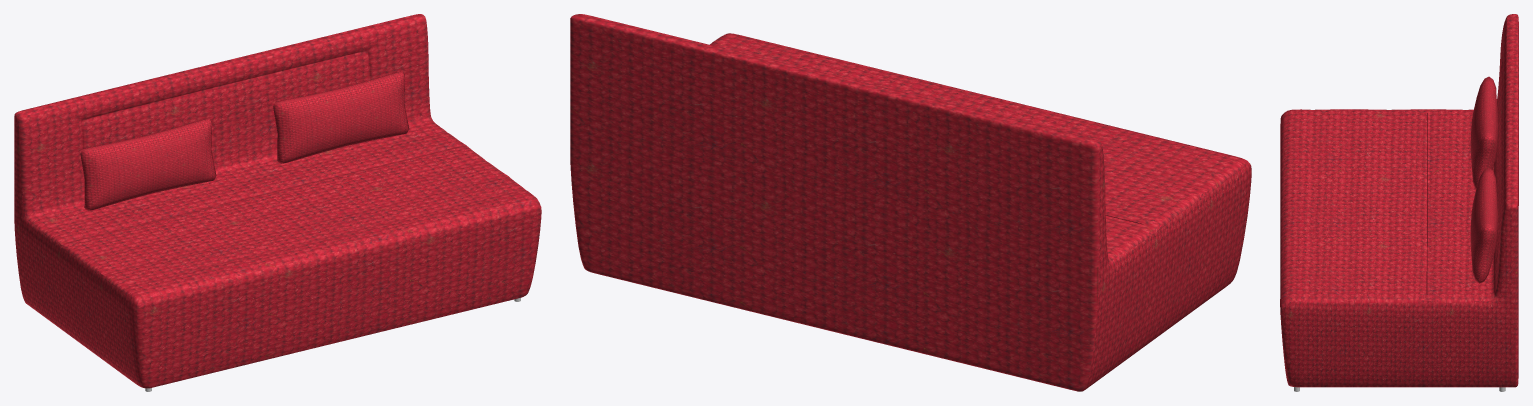
File: IKEA-Beddinge_Sofa_bed-3D.FBX
3 views of the same model, side by side, from view 1: azimuth 30°, elevation 25°; view 2: azimuth 150°, elevation 25°; view 3: azimuth 270°, elevation 25° (orthographic). The views are drawn at different scales.
Visible parts, largest first — view 1: Box05; view 2: Box05; view 3: Box05.
Part boxes in pixels (bbox=[...]): Box05: bbox=[14, 14, 541, 391]; Box05: bbox=[570, 14, 1251, 391]; Box05: bbox=[1280, 14, 1518, 391].
Bounding box in the file's own units: 2 × 1.04 × 0.9343.
2 materials, 1 textured.
